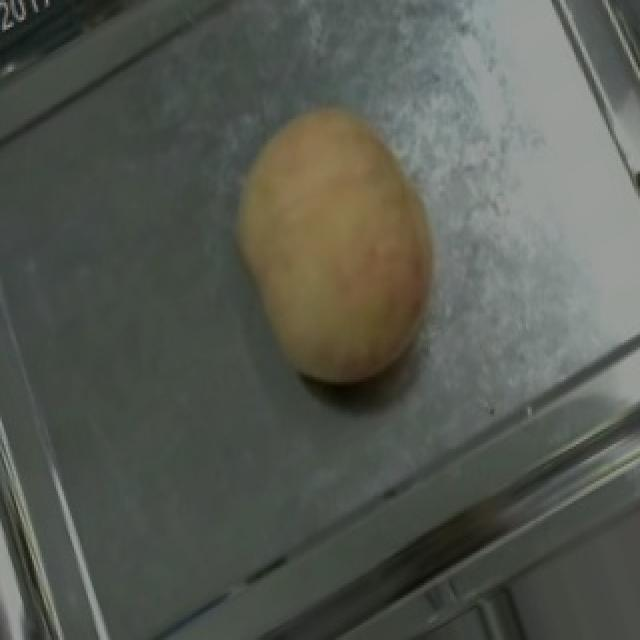Fruit: (188, 67, 486, 424)
